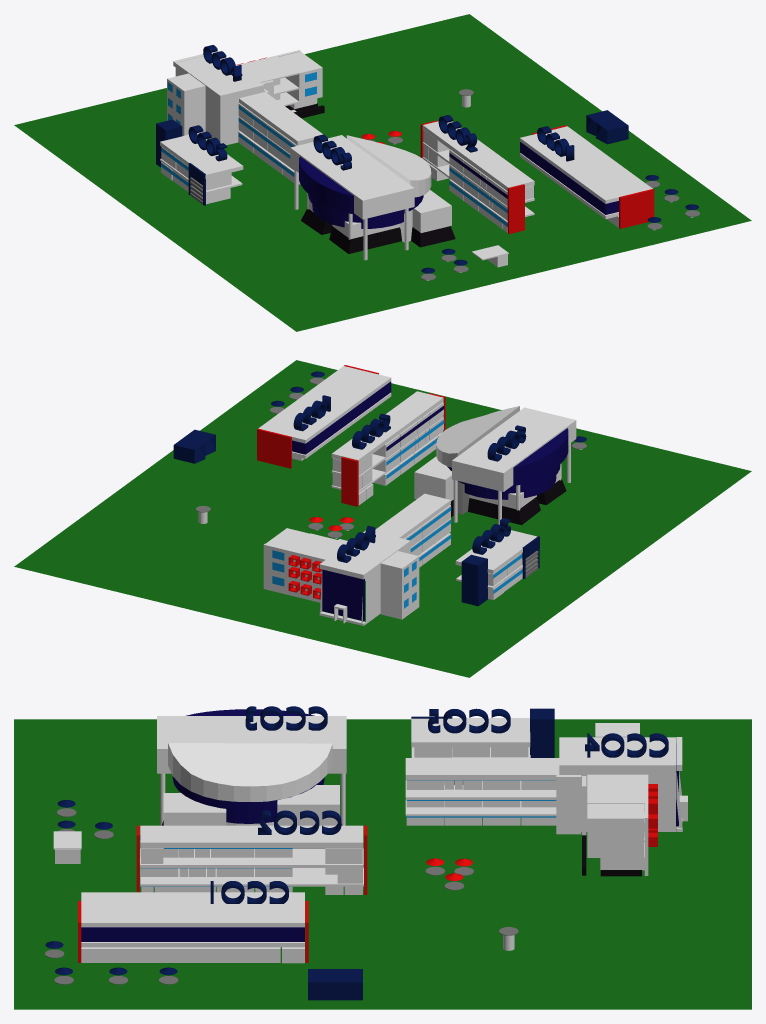
Rendered from FCC_semifinal.glb.
The picture shows the model from 3 angles, top to bottom: view 1: azimuth 30°, elevation 25°; view 2: azimuth 150°, elevation 25°; view 3: azimuth 270°, elevation 25°; orthographic projection. The views are drawn at different scales.
Visible parts, largest first — view 1: Plane, 3LabSuperiores, 1SOTEGUELA1.001, 4Murales, 2Soteguela3, 3TechoTrasero, 4Soteguela3, 4Ala_Sur, 3Ventanal1, 5Soteguela2, 3LC109, 1POSGRADO (+15 smaller); view 2: Plane, 3LabSuperiores, 1SOTEGUELA1.001, 4Murales, 4Ala_Sur, 2Soteguela3, 3TechoTrasero, 4Barda4, 4MuralesVentana, 4Soteguela3, 3Ventanal1, 5ESCALERAS (+14 smaller); view 3: Plane, 3TechoTrasero, 1SOTEGUELA1.001, 3LabSuperiores, 4Murales, 2Soteguela3, 4Soteguela3, 1POSGRADO, 5Soteguela2, 1SALACUBICULOS, 2Soteguela2, 2Soteguela1 (+22 smaller).
Part boxes in pixels (x1,y1,x2,y2): Plane: (14, 14, 751, 331); 3LabSuperiores: (290, 135, 414, 219); 1SOTEGUELA1.001: (520, 126, 652, 203); 4Murales: (175, 56, 264, 145); 2Soteguela3: (422, 121, 534, 190); 3TechoTrasero: (346, 135, 431, 197); 4Soteguela3: (239, 92, 323, 145); 4Ala_Sur: (167, 73, 205, 135); 3Ventanal1: (299, 156, 355, 214); 5Soteguela2: (160, 133, 243, 178); 3LC109: (412, 190, 451, 232); 1POSGRADO: (520, 142, 618, 214); Plane: (14, 360, 751, 677); 3LabSuperiores: (452, 407, 576, 491); 1SOTEGUELA1.001: (258, 366, 391, 443); 4Murales: (322, 530, 410, 623); 4Ala_Sur: (380, 551, 419, 619); 2Soteguela3: (331, 391, 443, 463); 3TechoTrasero: (436, 406, 519, 467); 4Barda4: (263, 543, 326, 602); 4MuralesVentana: (322, 569, 364, 621); 4Soteguela3: (375, 493, 450, 538); 3Ventanal1: (512, 428, 568, 485); 5ESCALERAS: (461, 554, 487, 606); Plane: (14, 719, 751, 1009); 3TechoTrasero: (168, 743, 332, 801); 1SOTEGUELA1.001: (81, 892, 304, 927); 3LabSuperiores: (157, 716, 346, 773); 4Murales: (559, 737, 675, 831); 2Soteguela3: (140, 825, 363, 847); 4Soteguela3: (405, 758, 559, 780); 1POSGRADO: (81, 927, 304, 941); 5Soteguela2: (411, 718, 530, 747); 1SALACUBICULOS: (81, 947, 254, 962); 2Soteguela2: (140, 848, 363, 867); 2Soteguela1: (140, 868, 363, 886).
Bounding box in the file's own units: 18.5 × 3.42 × 19.87.
